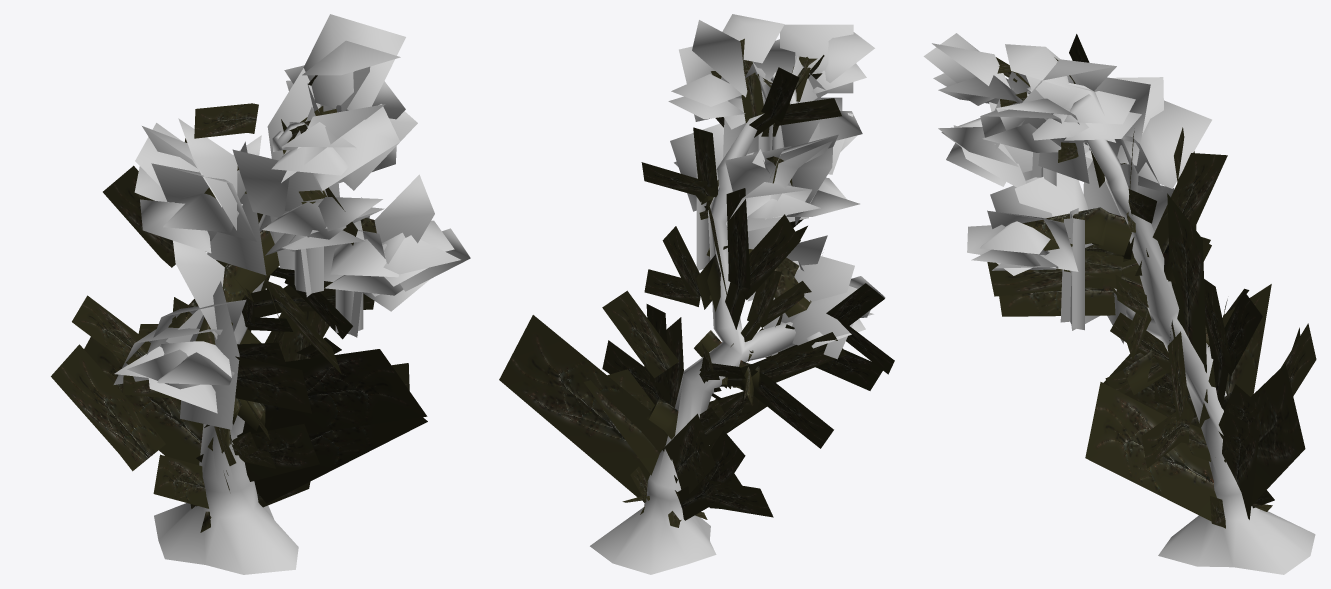
File: tree5.FBX
3 views of the same model, side by side, from view 1: azimuth 30°, elevation 25°; view 2: azimuth 150°, elevation 25°; view 3: azimuth 270°, elevation 25° (orthographic). The views are drawn at different scales.
Parts seen in each view (by area): view 1: tree5; view 2: tree5; view 3: tree5.
Boxes of the visible parts, box(x1,y1,x2,y2) form: tree5: box(51, 14, 470, 574); tree5: box(499, 14, 894, 574); tree5: box(923, 33, 1316, 574).
Size of the model in its own units: 274 by 377 by 267.
